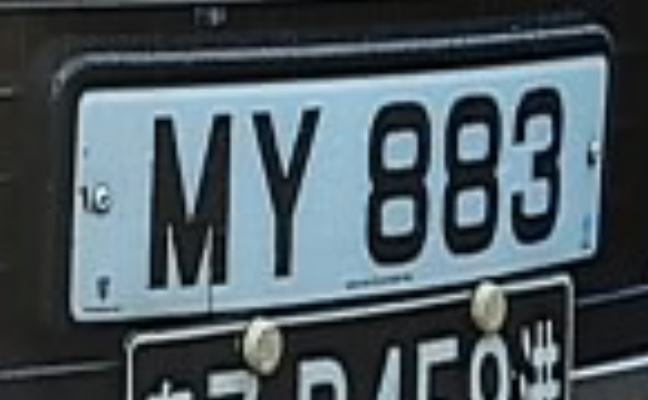3: (504, 64, 572, 260)
8: (357, 80, 438, 281), (435, 67, 508, 270)
M: (125, 91, 248, 315)
Y: (240, 86, 333, 299)
